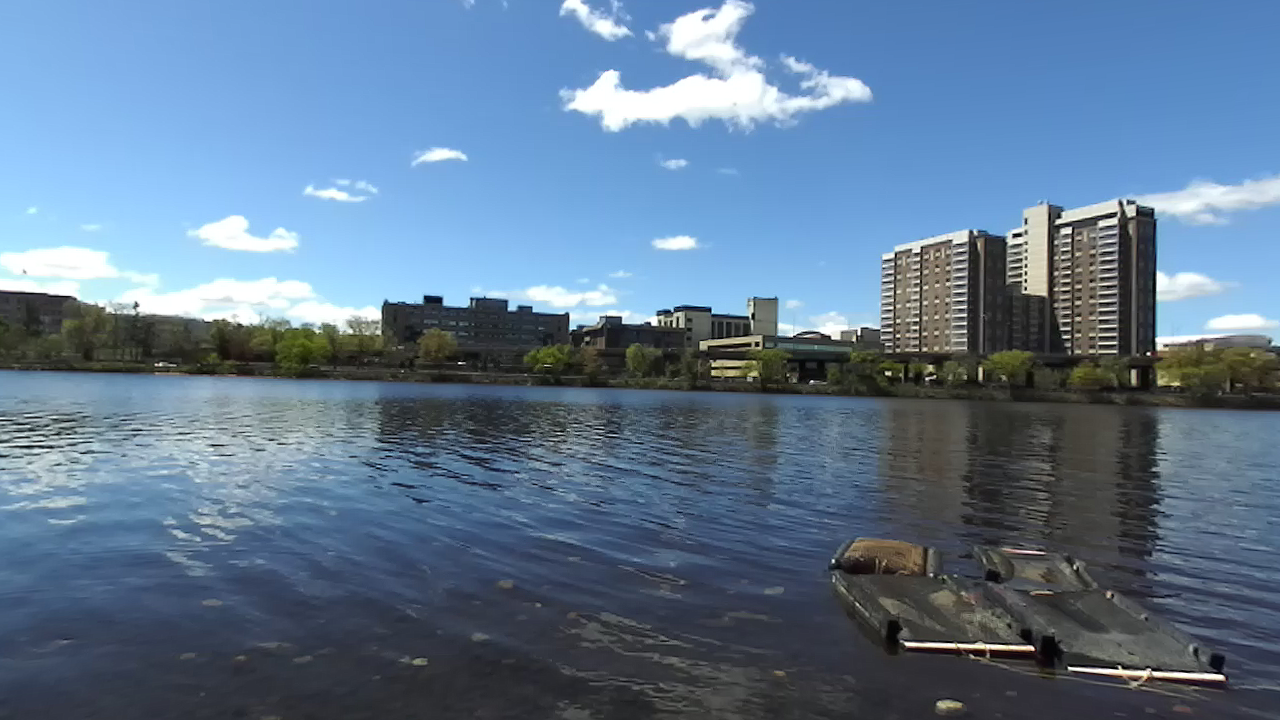bag: (982, 583, 1230, 687), (832, 582, 1034, 659), (972, 541, 1095, 588), (830, 534, 943, 579)
